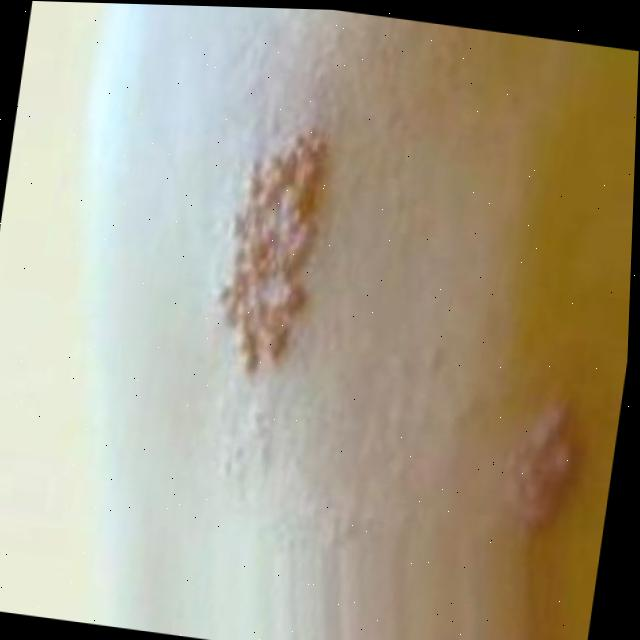Shingles: (202, 113, 336, 384), (496, 387, 590, 544)
